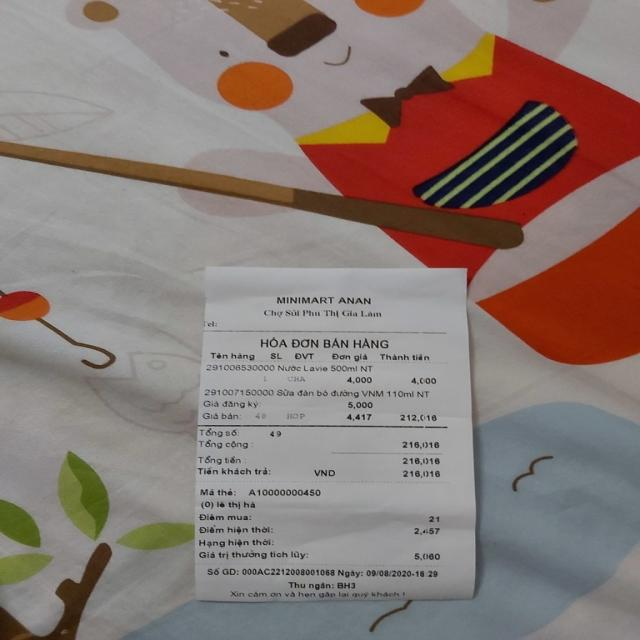Date: (364, 567, 412, 579)
Store_Name: (275, 295, 372, 306)
amount_number: (402, 438, 442, 451)
label_total: (198, 439, 249, 450)
